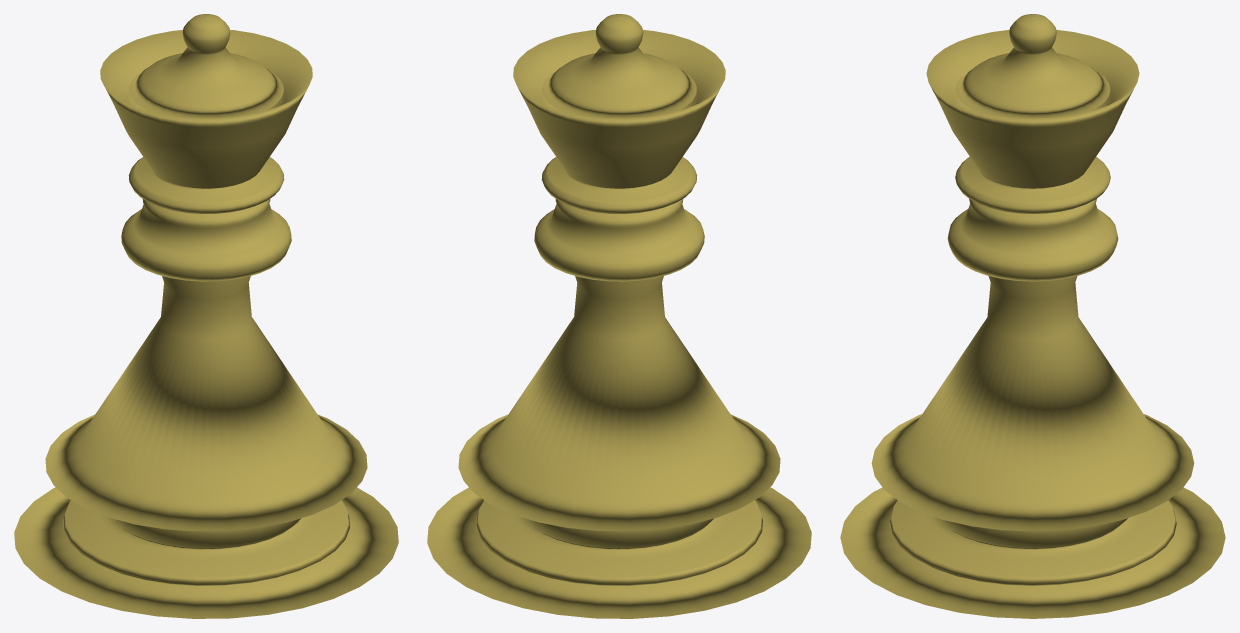
Rendered from RainhaPRETA.fbx.
The picture shows the model from 3 angles, left to right: view 1: azimuth 30°, elevation 25°; view 2: azimuth 150°, elevation 25°; view 3: azimuth 270°, elevation 25°; orthographic projection.
Parts seen in each view (by area): view 1: Cylinder.001; view 2: Cylinder.001; view 3: Cylinder.001.
Part boxes in pixels (bbox=[...]): Cylinder.001: bbox=[14, 14, 398, 618]; Cylinder.001: bbox=[427, 14, 811, 618]; Cylinder.001: bbox=[840, 14, 1225, 618].
Bounding box in the file's own units: 229 × 342 × 229.
